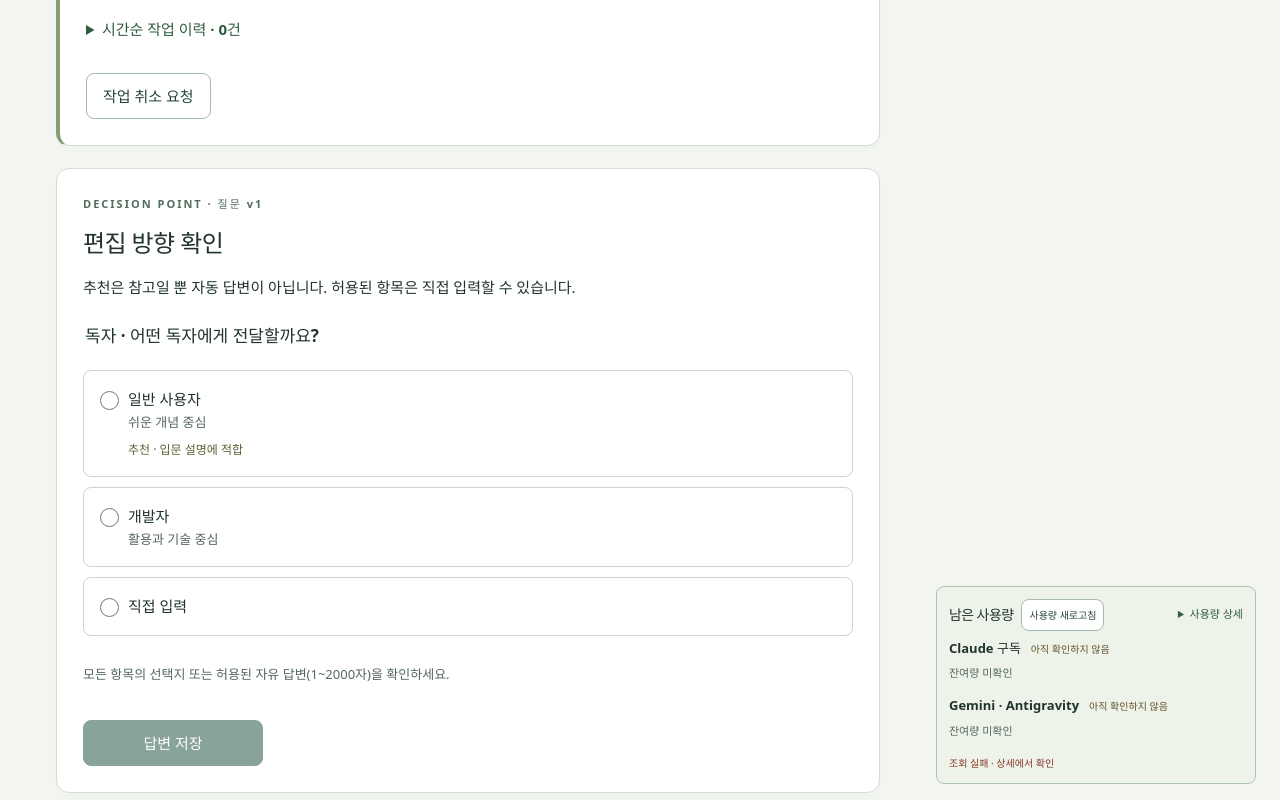
복원·충돌·오류 화면 › 답변 충돌은 현재 질문으로 재조회하며 자동 재답변하지 않는다
This screenshot has width=1280, height=800.
(page scrolled)
Click the radio button labelled "일반 사용자 쉬운 개념 중심 추천 · 입문 설명에 적합". click: (110,401)
box: [100,391,119,410]
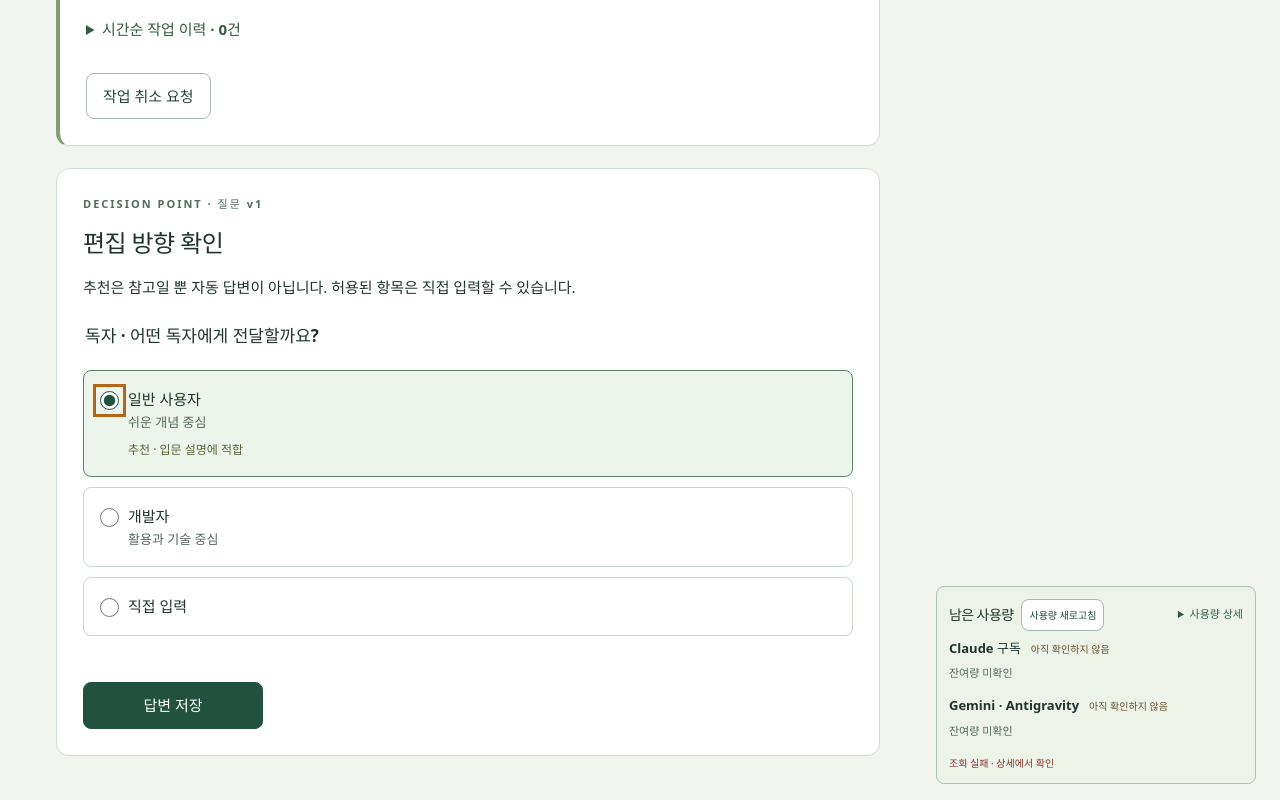
Click the button "답변 저장". click: (173,706)
box: [83,682,263,729]
(page scrolled)
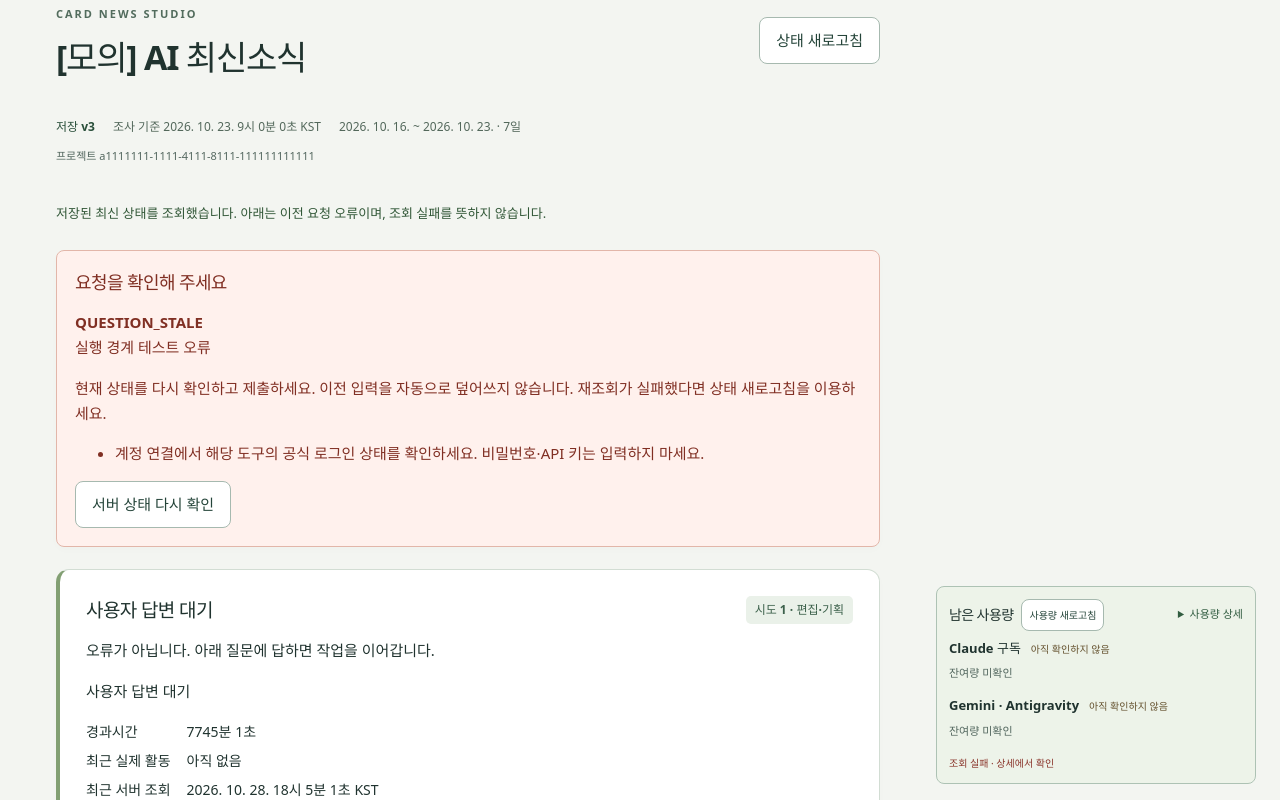
Expected: the text "QUESTION_STALE" is shown, [75,312,203,332]
Expected: the text "이전 입력을 자동으로 덮어쓰지" is shown, [75,378,855,423]
